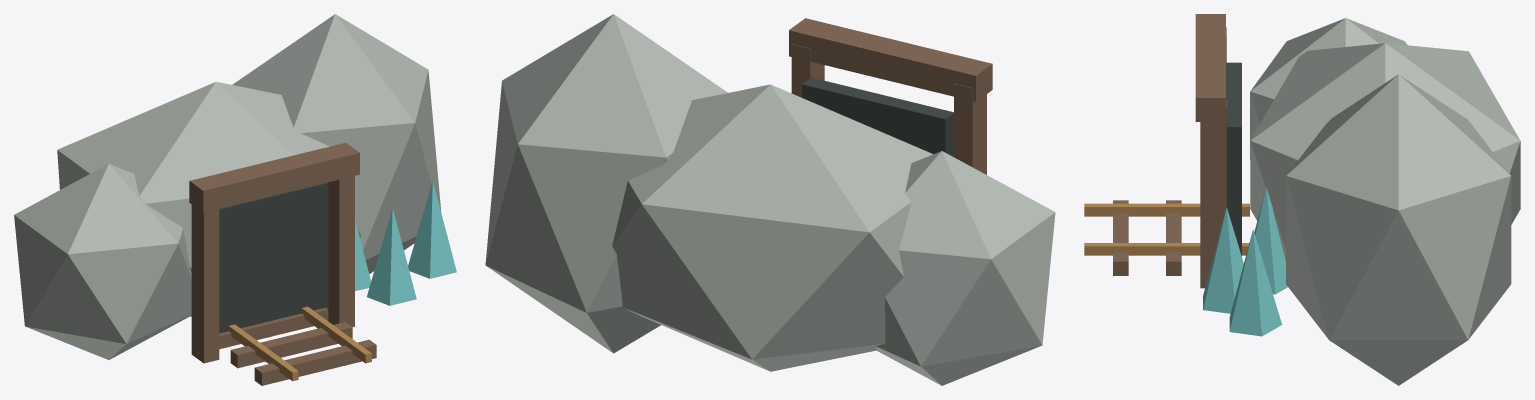
File: SM_Quarry.fbx
3 renders of one model, left to right at view 1: azimuth 30°, elevation 25°; view 2: azimuth 150°, elevation 25°; view 3: azimuth 270°, elevation 25°, orthographic. The views are drawn at different scales.
Visible parts, largest first — view 1: SM_Quarry; view 2: SM_Quarry; view 3: SM_Quarry.
Boxes of the visible parts, left/top/right/bottom form: SM_Quarry: left=14, top=14, right=456, bottom=385; SM_Quarry: left=485, top=14, right=1055, bottom=385; SM_Quarry: left=1084, top=14, right=1520, bottom=385.
Bounding box in the file's own units: 4.1 × 3.3 × 2.6.
